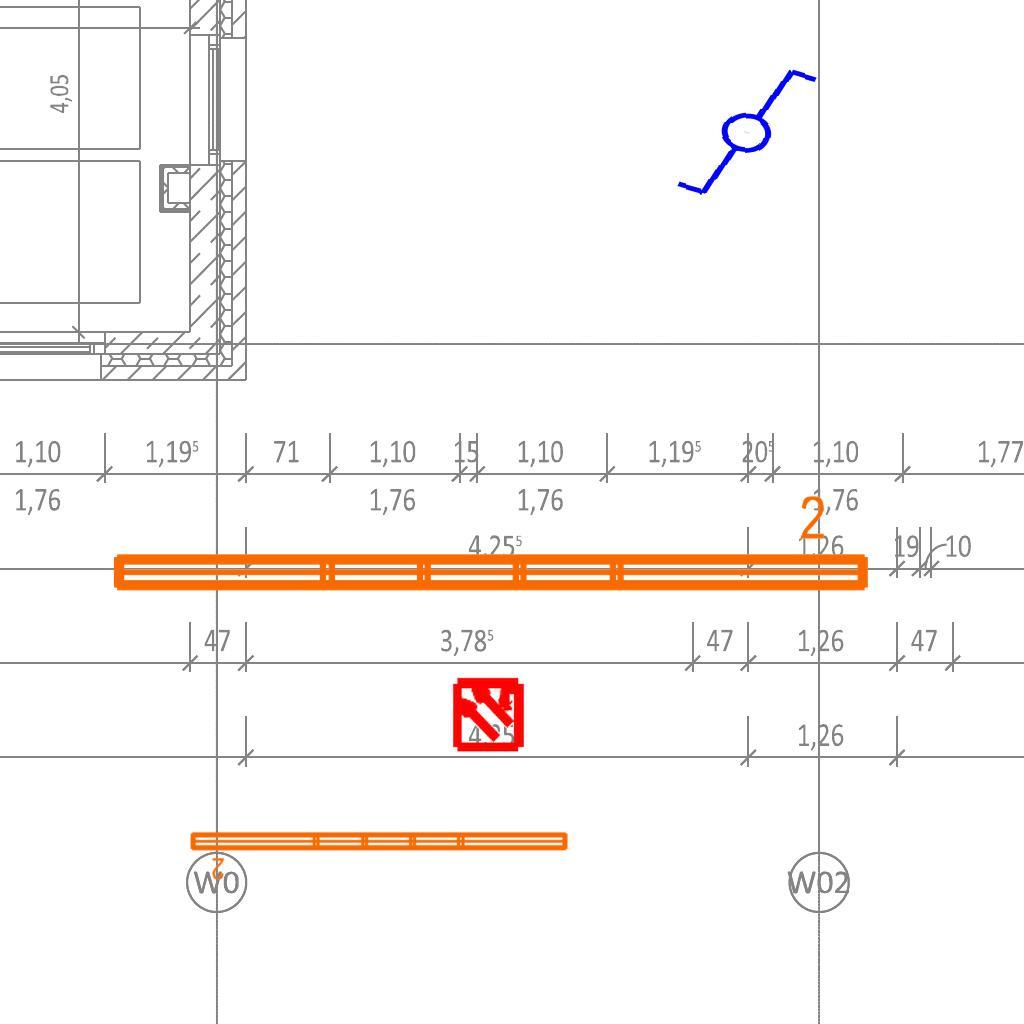Ambulanz_Pendelleuchte_LED: (103, 491, 877, 603), (186, 826, 573, 882)
OT_Multisensormelder_(Kombination_RMO_WMD): (432, 656, 545, 769)
Wechselschalter: (655, 52, 822, 208)
